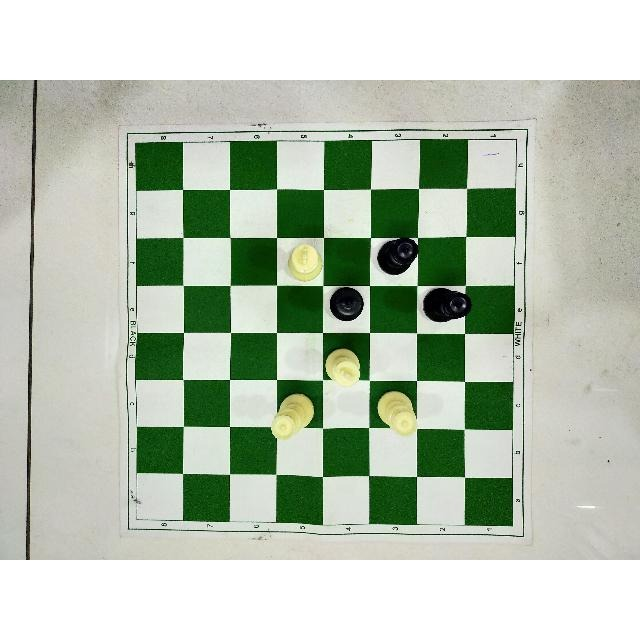black-king: (328, 287, 366, 323)
black-queen: (423, 287, 474, 324), (377, 238, 423, 276)
white-king: (285, 243, 326, 282), (325, 345, 363, 386)
white-queen: (269, 390, 314, 446), (375, 389, 419, 438)
